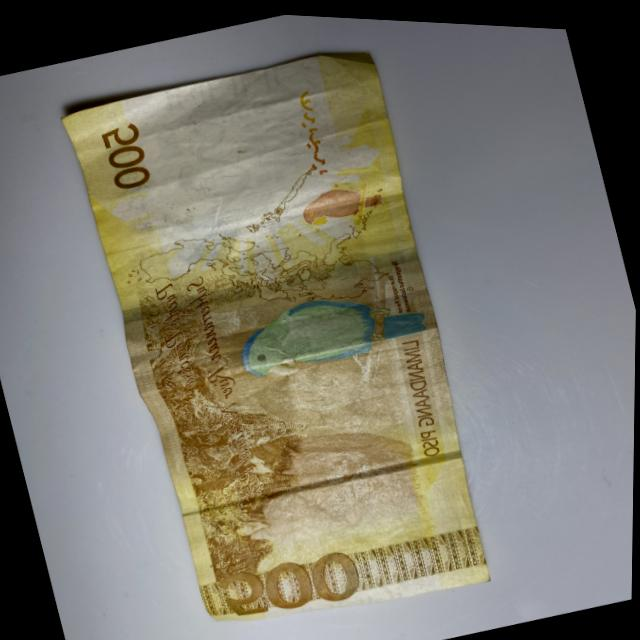500_big_parrot: (229, 262, 433, 389)
500_parrot_watermark: (297, 170, 391, 229)
value_watermark: (216, 88, 273, 128)
